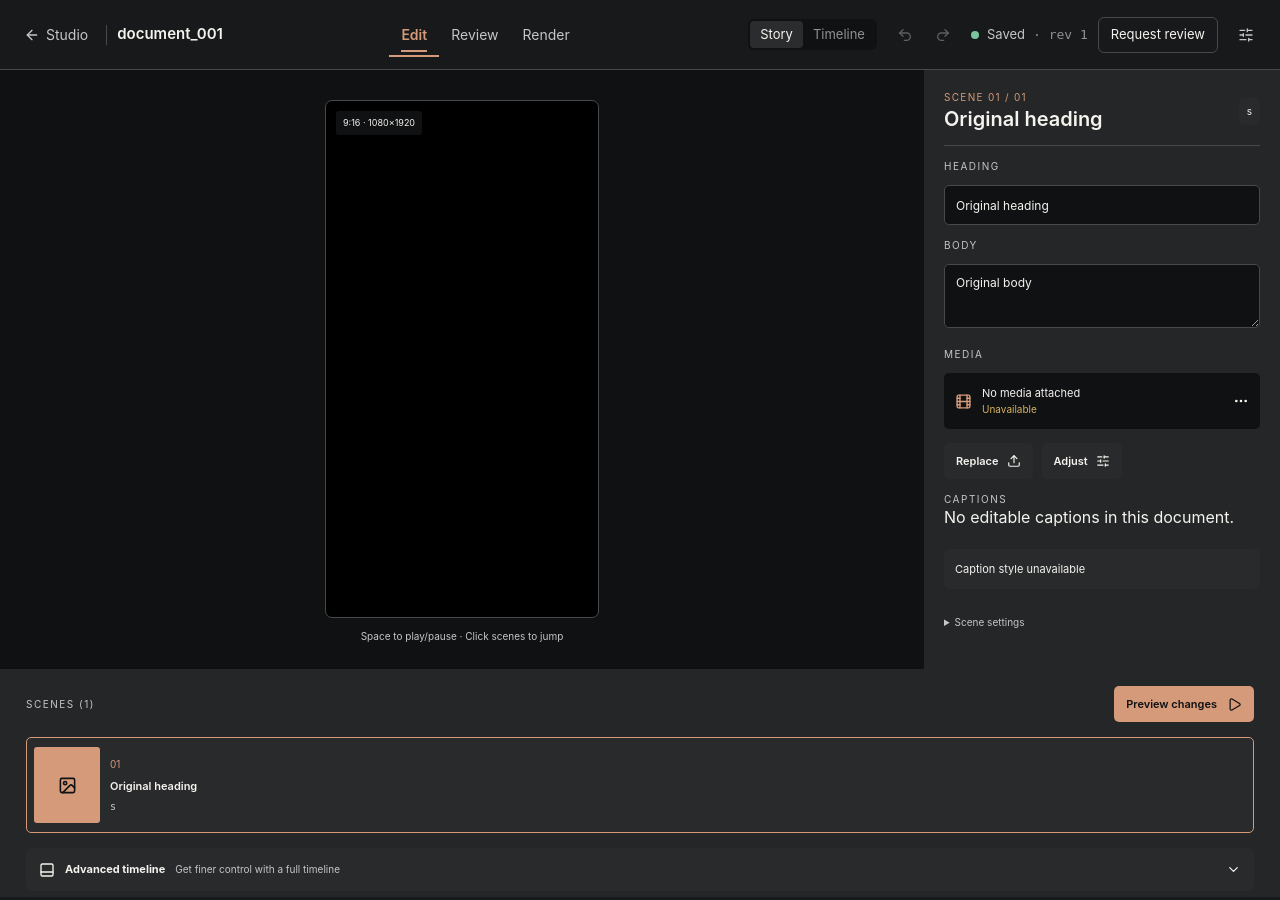
Test: shows safe Retry guidance after a failed save without rendering the raw error
Type " updated" into the field labelled "Heading" at [1102, 205], box x1=944 y1=185 x2=1260 y2=225
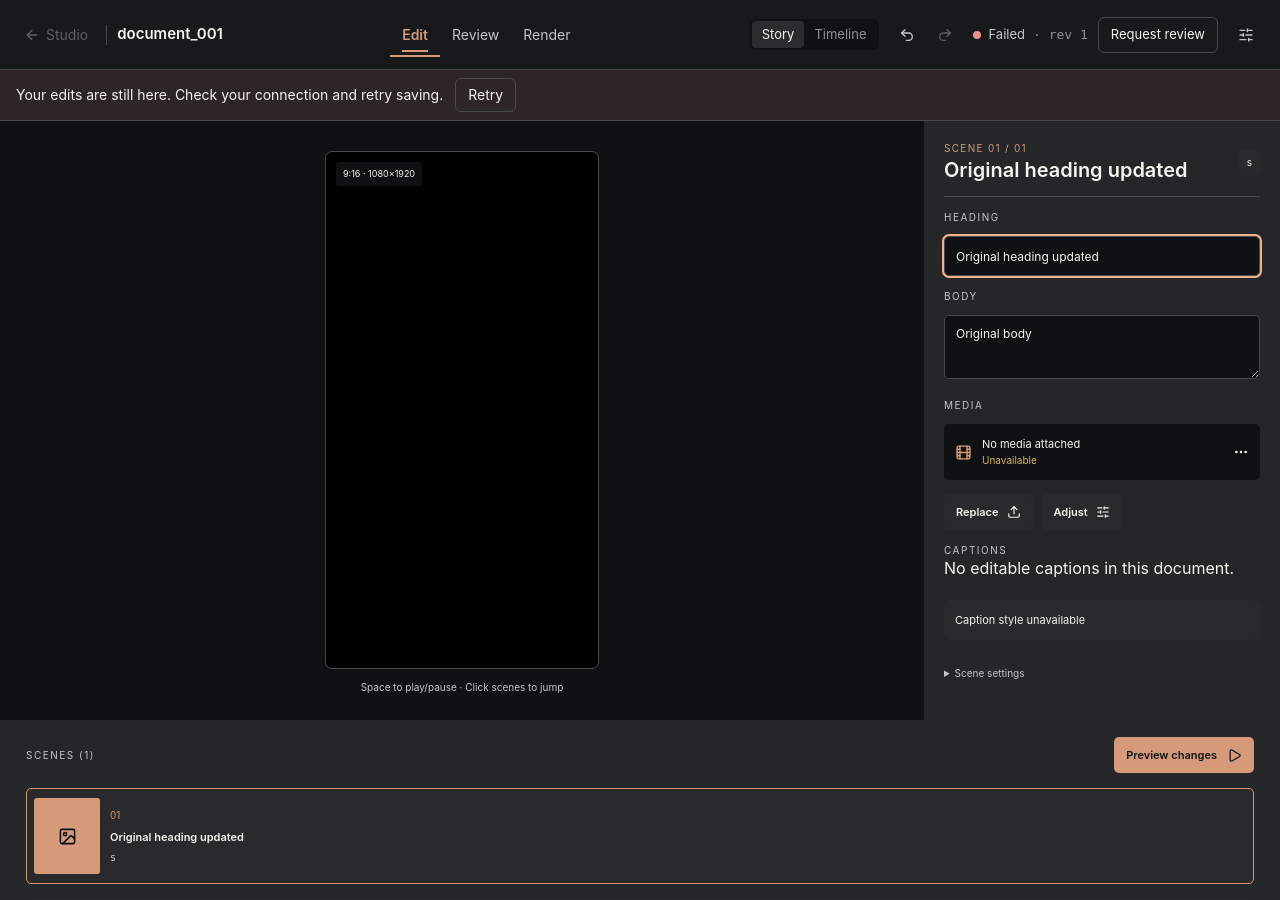
Expected: the message shows "Your edits are still here", x1=16 y1=86 x2=443 y2=103
Expected: the button "Retry" is shown, x1=455 y1=78 x2=516 y2=112
